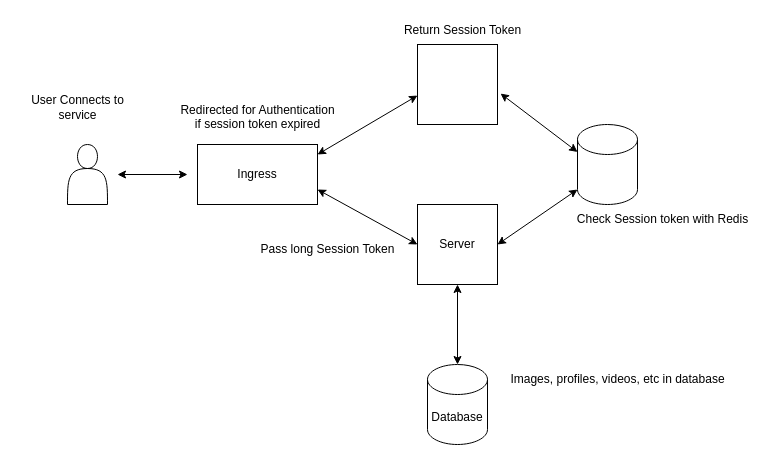
Some shapes in this 774 by 462 pixel diagram are drawn without their labels. Here are the shapes that lost their labels. From the top down, the centre of each, then its label:
the point at 457,84: Authentication
the point at 607,164: Redis
